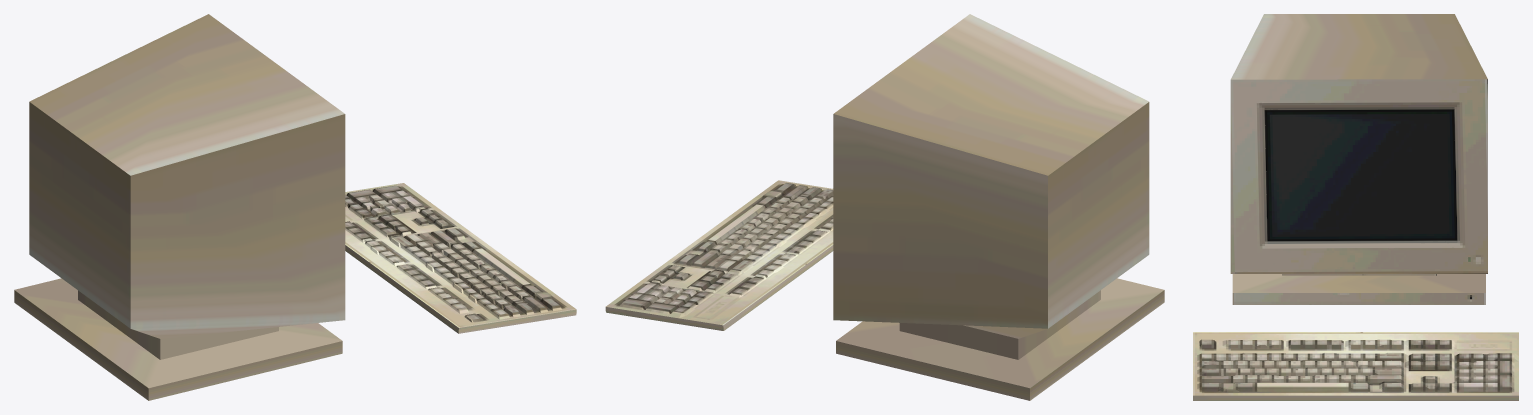
Rendered from homepage-computer.glb.
3 renders of one model, left to right at view 1: azimuth 30°, elevation 25°; view 2: azimuth 150°, elevation 25°; view 3: azimuth 270°, elevation 25°, orthographic. The views are drawn at different scales.
Parts seen in each view (by area): view 1: monitor_main; view 2: monitor_main; view 3: monitor_main, monitor_screen.
Boxes of the visible parts, box(x1,y1,x2,y2) form: monitor_main: box(14, 14, 576, 400); monitor_main: box(605, 14, 1164, 400); monitor_main: box(1193, 14, 1518, 400); monitor_screen: box(1265, 109, 1455, 240).
Bounding box in the file's own units: 0.622 × 0.3492 × 0.456.
Materials: 1 (1 with a texture image).
